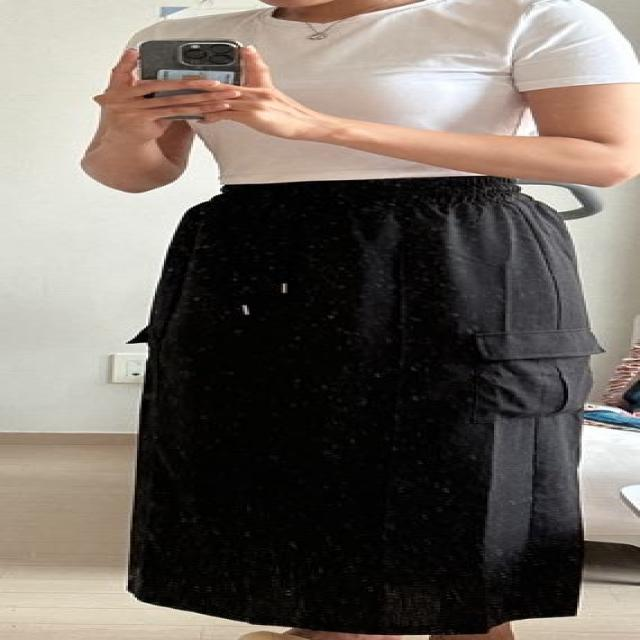shortsleeve: (119, 1, 640, 187)
skirt: (125, 175, 596, 634)
